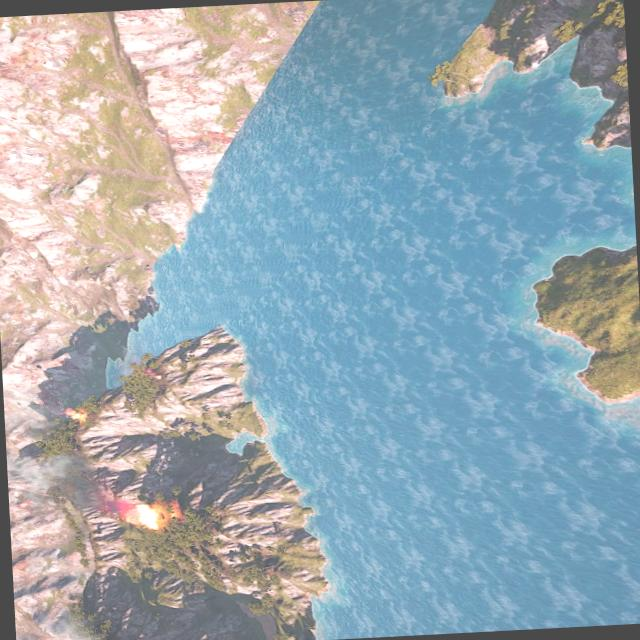fire: (134, 498, 178, 532), (64, 404, 90, 422)
smoke: (45, 455, 136, 524)
